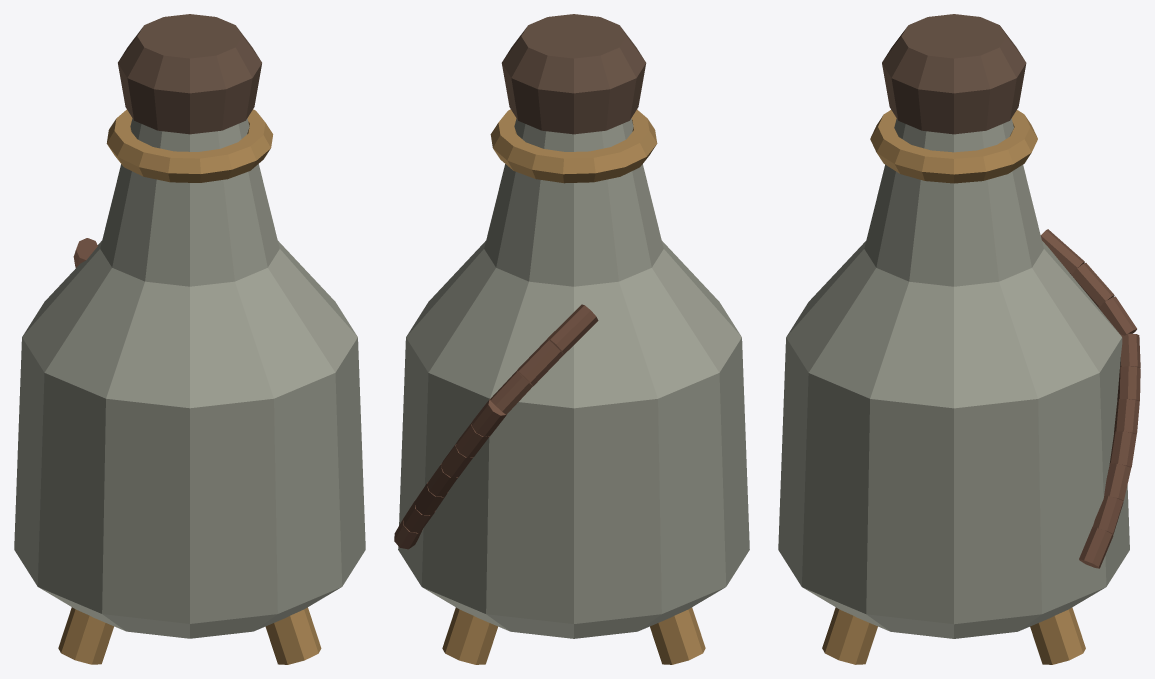
File: AE_Item_AshAntidote.fbx
The picture shows the model from 3 angles, left to right: view 1: azimuth 30°, elevation 25°; view 2: azimuth 150°, elevation 25°; view 3: azimuth 270°, elevation 25°; orthographic projection.
Parts seen in each view (by area): view 1: AE_Item_AshAntidote; view 2: AE_Item_AshAntidote; view 3: AE_Item_AshAntidote.
Part boxes in pixels (x1,y1,x2,y2): AE_Item_AshAntidote: [14, 14, 365, 664]; AE_Item_AshAntidote: [394, 14, 749, 664]; AE_Item_AshAntidote: [778, 14, 1140, 664].
Size of the model in its own units: 0.18 by 0.3392 by 0.1855.
